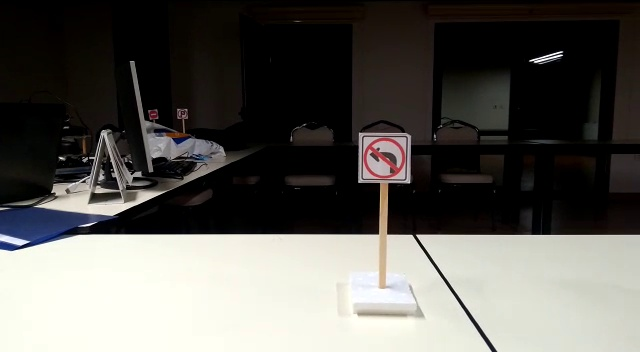sola_donulmez: (361, 133, 410, 181)
